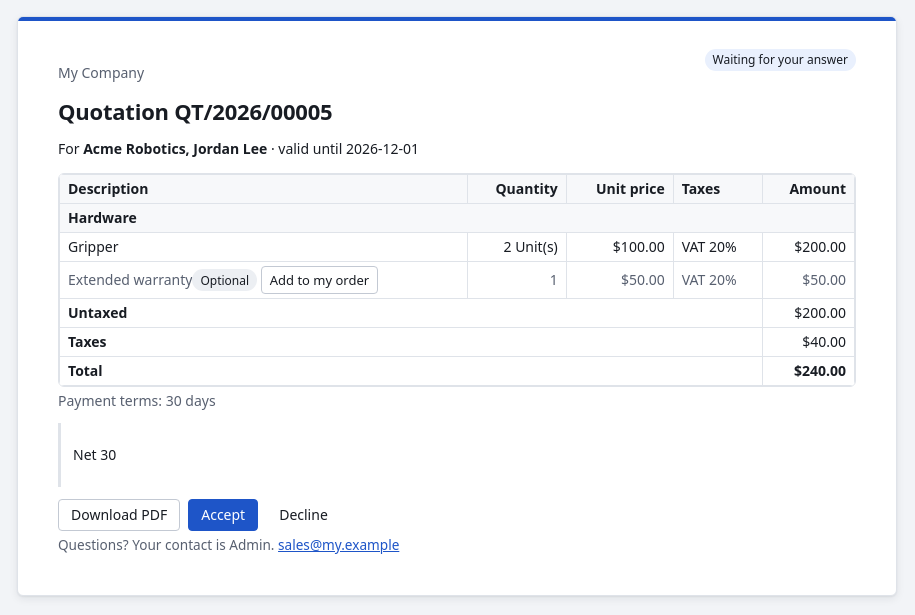
Test case: customer portal › shows taxes and lets the customer add an optional product
expect the text "Payment terms: 30 days" is shown: met, box [58,391,216,410]
expect the text "VAT 20%" is shown 2 times: met, box [673,233,763,262]; [673,262,763,299]
Click the button with aria-label "Add Extended warranty to my order". click: click(319, 280)
box: [261,266,378,294]
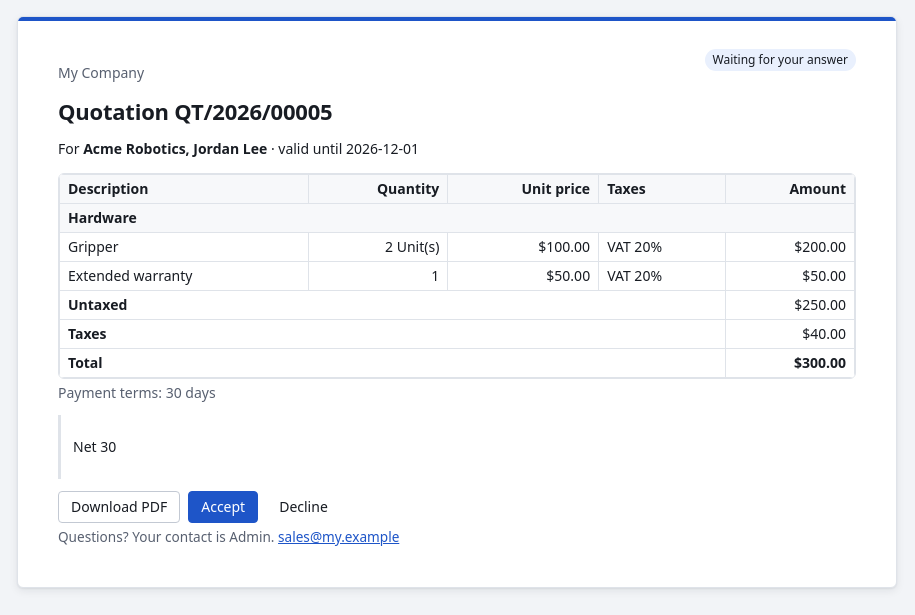
expect the text "$300.00" is shown: met, box [725,349,854,378]
expect the button "to my order" is gone: met
